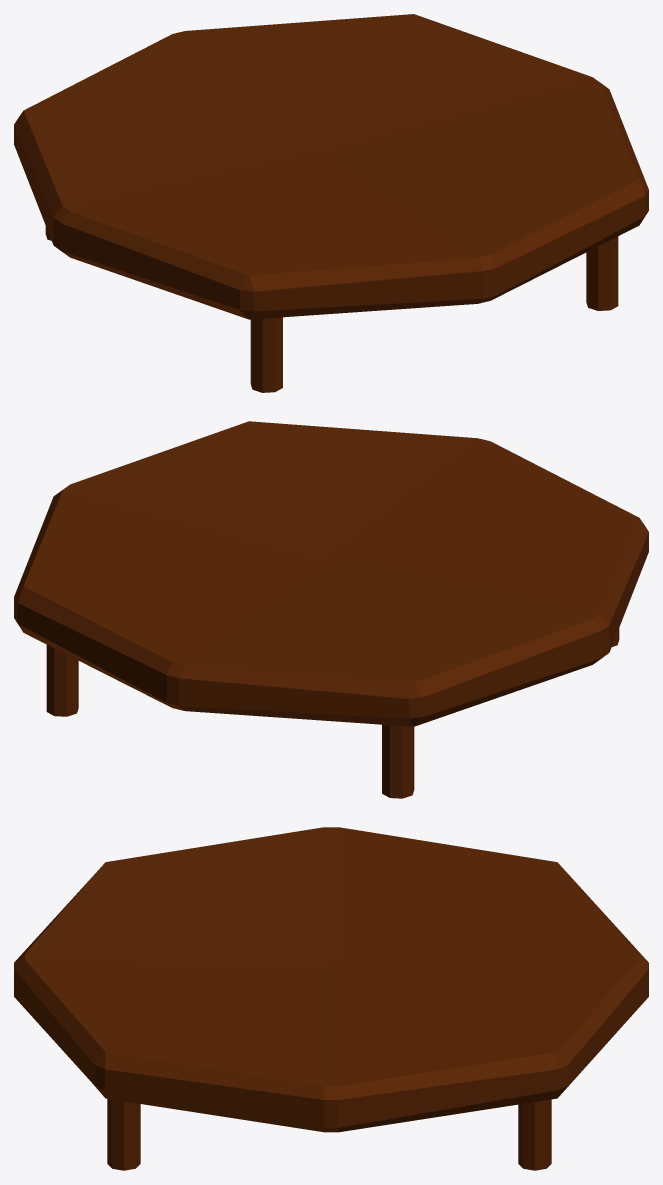
The model's file is coffeeTable.fbx.
3 views of the same model, one above another, from view 1: azimuth 30°, elevation 25°; view 2: azimuth 150°, elevation 25°; view 3: azimuth 270°, elevation 25° (orthographic).
Visible parts, largest first — view 1: Coffee_table; view 2: Coffee_table; view 3: Coffee_table.
Boxes of the visible parts, box(x1,y1,x2,y2) form: Coffee_table: box(14, 14, 648, 392); Coffee_table: box(14, 421, 648, 798); Coffee_table: box(14, 827, 648, 1170).
Size of the model in its own units: 271 by 59.16 by 271.
